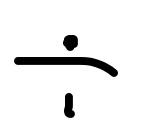div: (13, 33, 118, 119)
